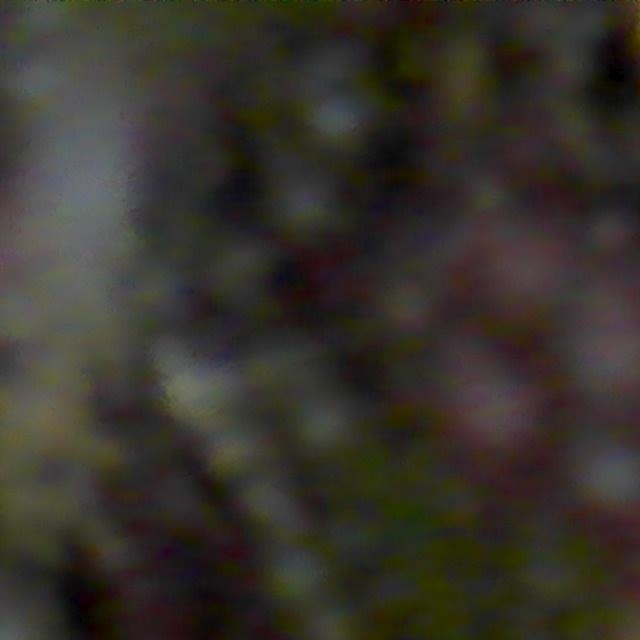SeaGrape: (463, 225, 573, 338), (433, 360, 543, 472), (573, 439, 640, 520), (204, 235, 274, 307), (271, 173, 341, 243), (294, 390, 362, 456), (306, 88, 371, 152), (265, 544, 330, 606), (239, 475, 302, 535), (378, 277, 439, 337), (584, 207, 638, 260)
